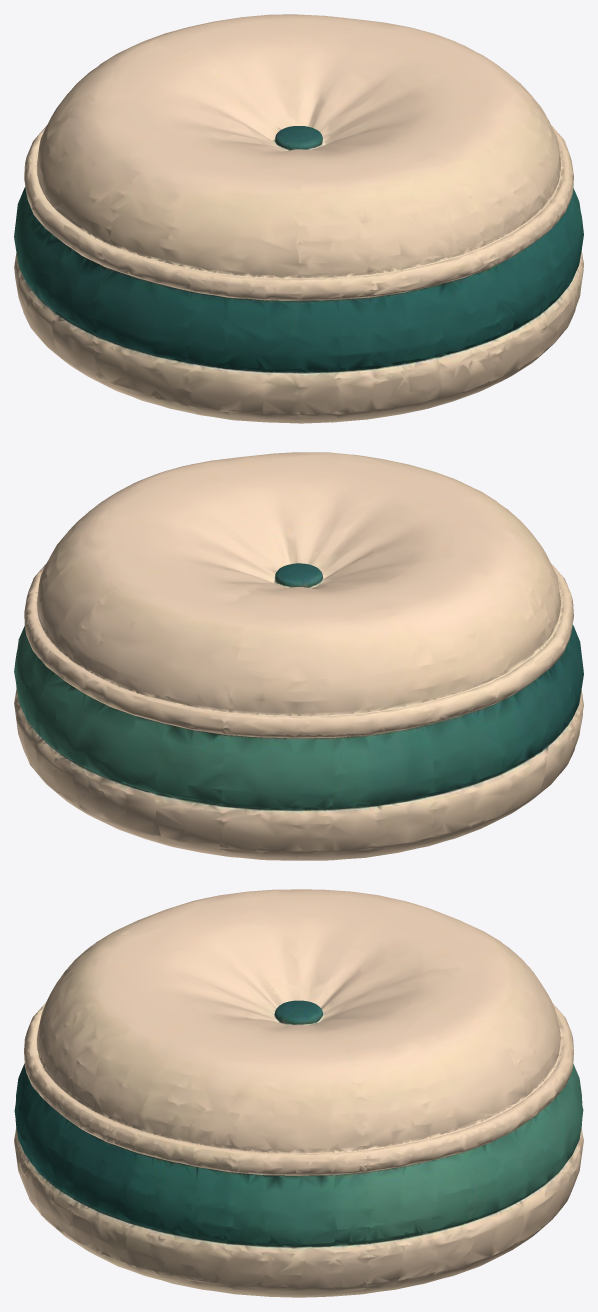
File: floor-cushion.glb
3 views of the same model, one above another, from view 1: azimuth 30°, elevation 25°; view 2: azimuth 150°, elevation 25°; view 3: azimuth 270°, elevation 25° (orthographic).
Bounding box in the file's own units: 1.9 × 0.8266 × 1.9.
1 material, 1 textured.
